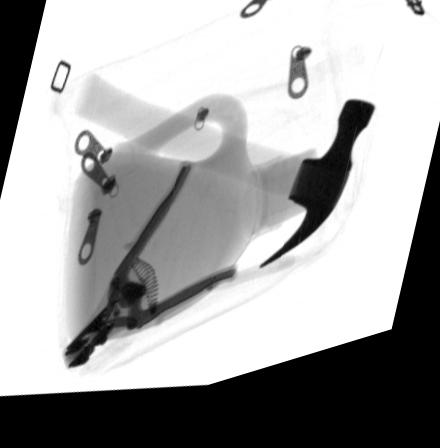Hammer: (75, 76, 377, 281)
Pliers: (61, 170, 238, 371)
